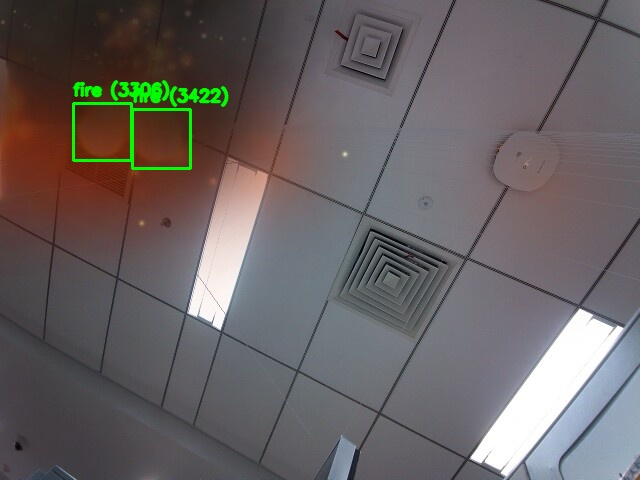fire: (132, 109, 190, 168), (73, 103, 131, 160)
